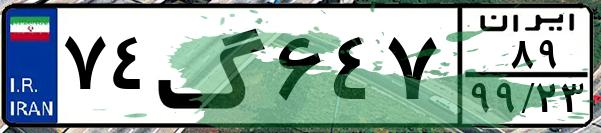2: (535, 70, 560, 125)
3: (560, 70, 590, 125)
4: (330, 28, 385, 110), (110, 28, 156, 98)
6: (270, 28, 330, 110)
7: (385, 28, 445, 110), (57, 26, 110, 100)
8: (508, 27, 537, 80)
9: (537, 27, 568, 80), (470, 70, 495, 125), (495, 70, 520, 125)
گ: (156, 12, 270, 120)
